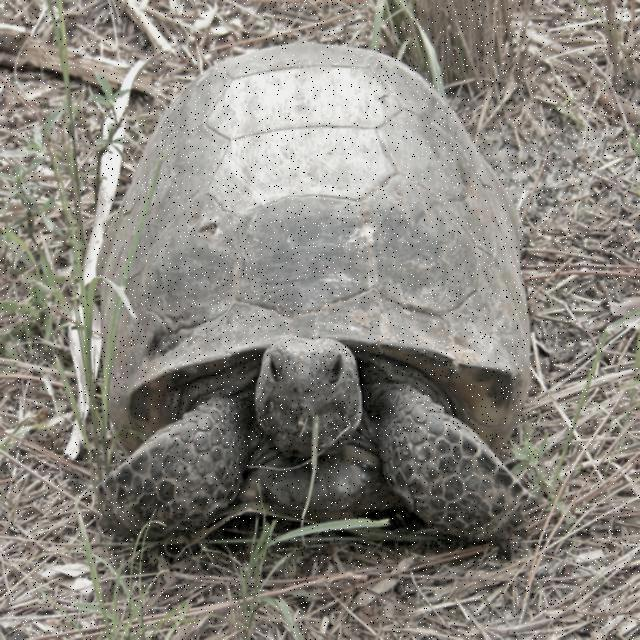tortoise: (100, 38, 534, 548)
